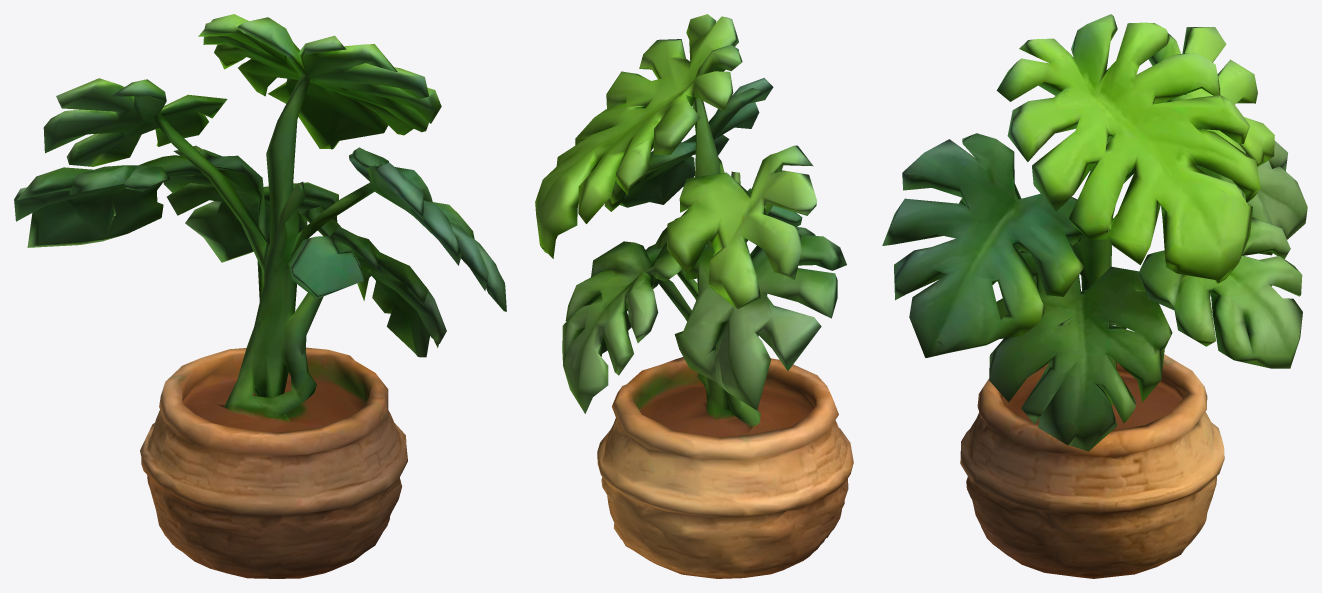
The model's file is monstera.glb.
3 renders of one model, left to right at view 1: azimuth 30°, elevation 25°; view 2: azimuth 150°, elevation 25°; view 3: azimuth 270°, elevation 25°, orthographic. The views are drawn at different scales.
Parts seen in each view (by area): view 1: tripo_node_2b9d5377-2819-4aa1-aecc-8624080adc1b; view 2: tripo_node_2b9d5377-2819-4aa1-aecc-8624080adc1b; view 3: tripo_node_2b9d5377-2819-4aa1-aecc-8624080adc1b.
Boxes of the visible parts, <box> form: tripo_node_2b9d5377-2819-4aa1-aecc-8624080adc1b: <box>14,14,506,578</box>; tripo_node_2b9d5377-2819-4aa1-aecc-8624080adc1b: <box>535,14,853,578</box>; tripo_node_2b9d5377-2819-4aa1-aecc-8624080adc1b: <box>882,14,1307,578</box>.
Bounding box in the file's own units: 0.6947 × 1 × 0.7471.
Materials: 1 (1 with a texture image).
